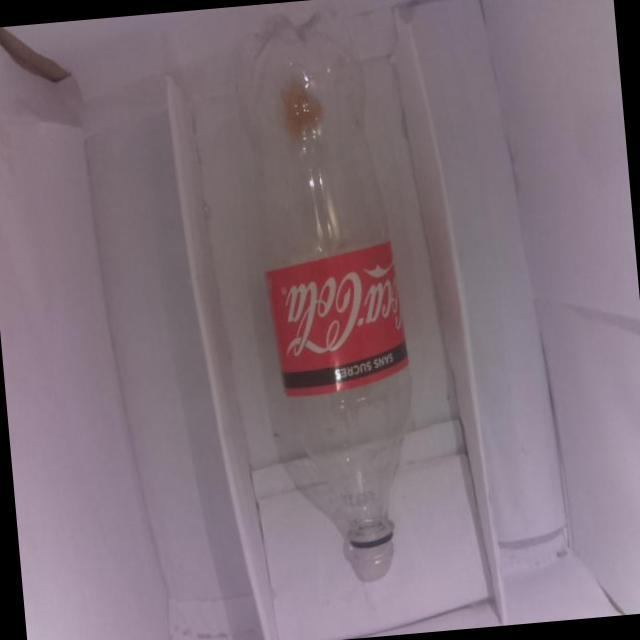good: (225, 0, 432, 592)
